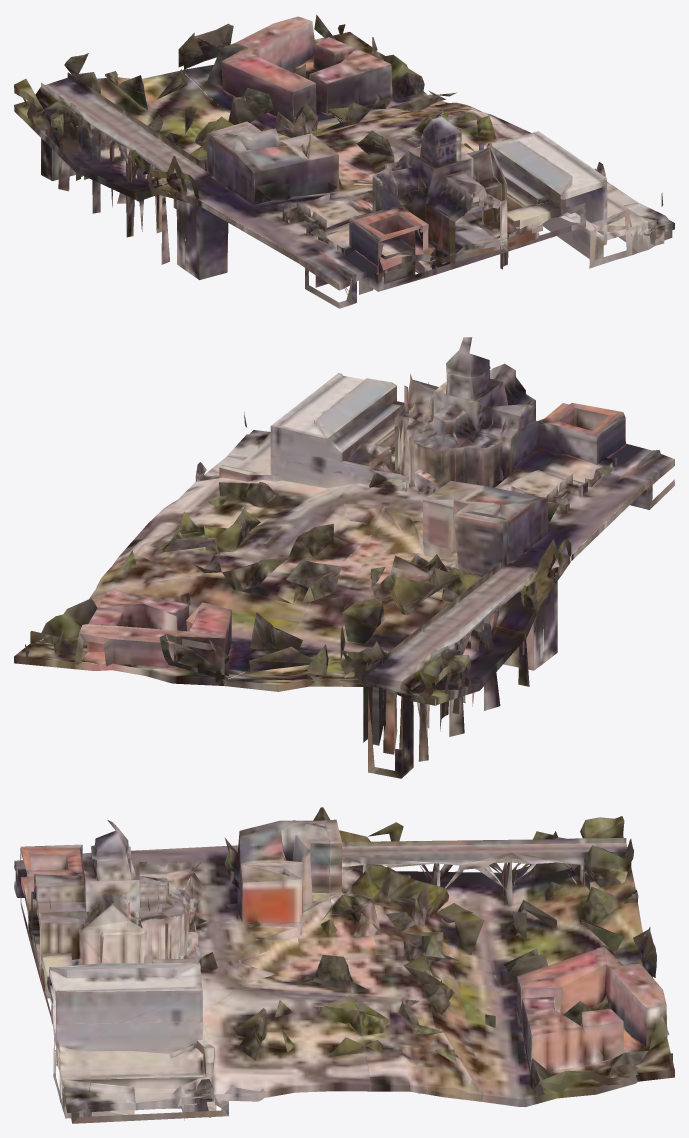
3 views of the same model, one above another, from view 1: azimuth 30°, elevation 25°; view 2: azimuth 150°, elevation 25°; view 3: azimuth 270°, elevation 25° (orthographic). The views are drawn at different scales.
Parts seen in each view (by area): view 1: Mesh_0; view 2: Mesh_0; view 3: Mesh_0.
Boxes of the visible parts, box(x1,y1,x2,y2) form: Mesh_0: box(14, 14, 674, 308); Mesh_0: box(14, 337, 674, 778); Mesh_0: box(14, 807, 674, 1123).
Size of the model in its own units: 266 by 121 by 330.
Materials: 2 (2 with a texture image).
